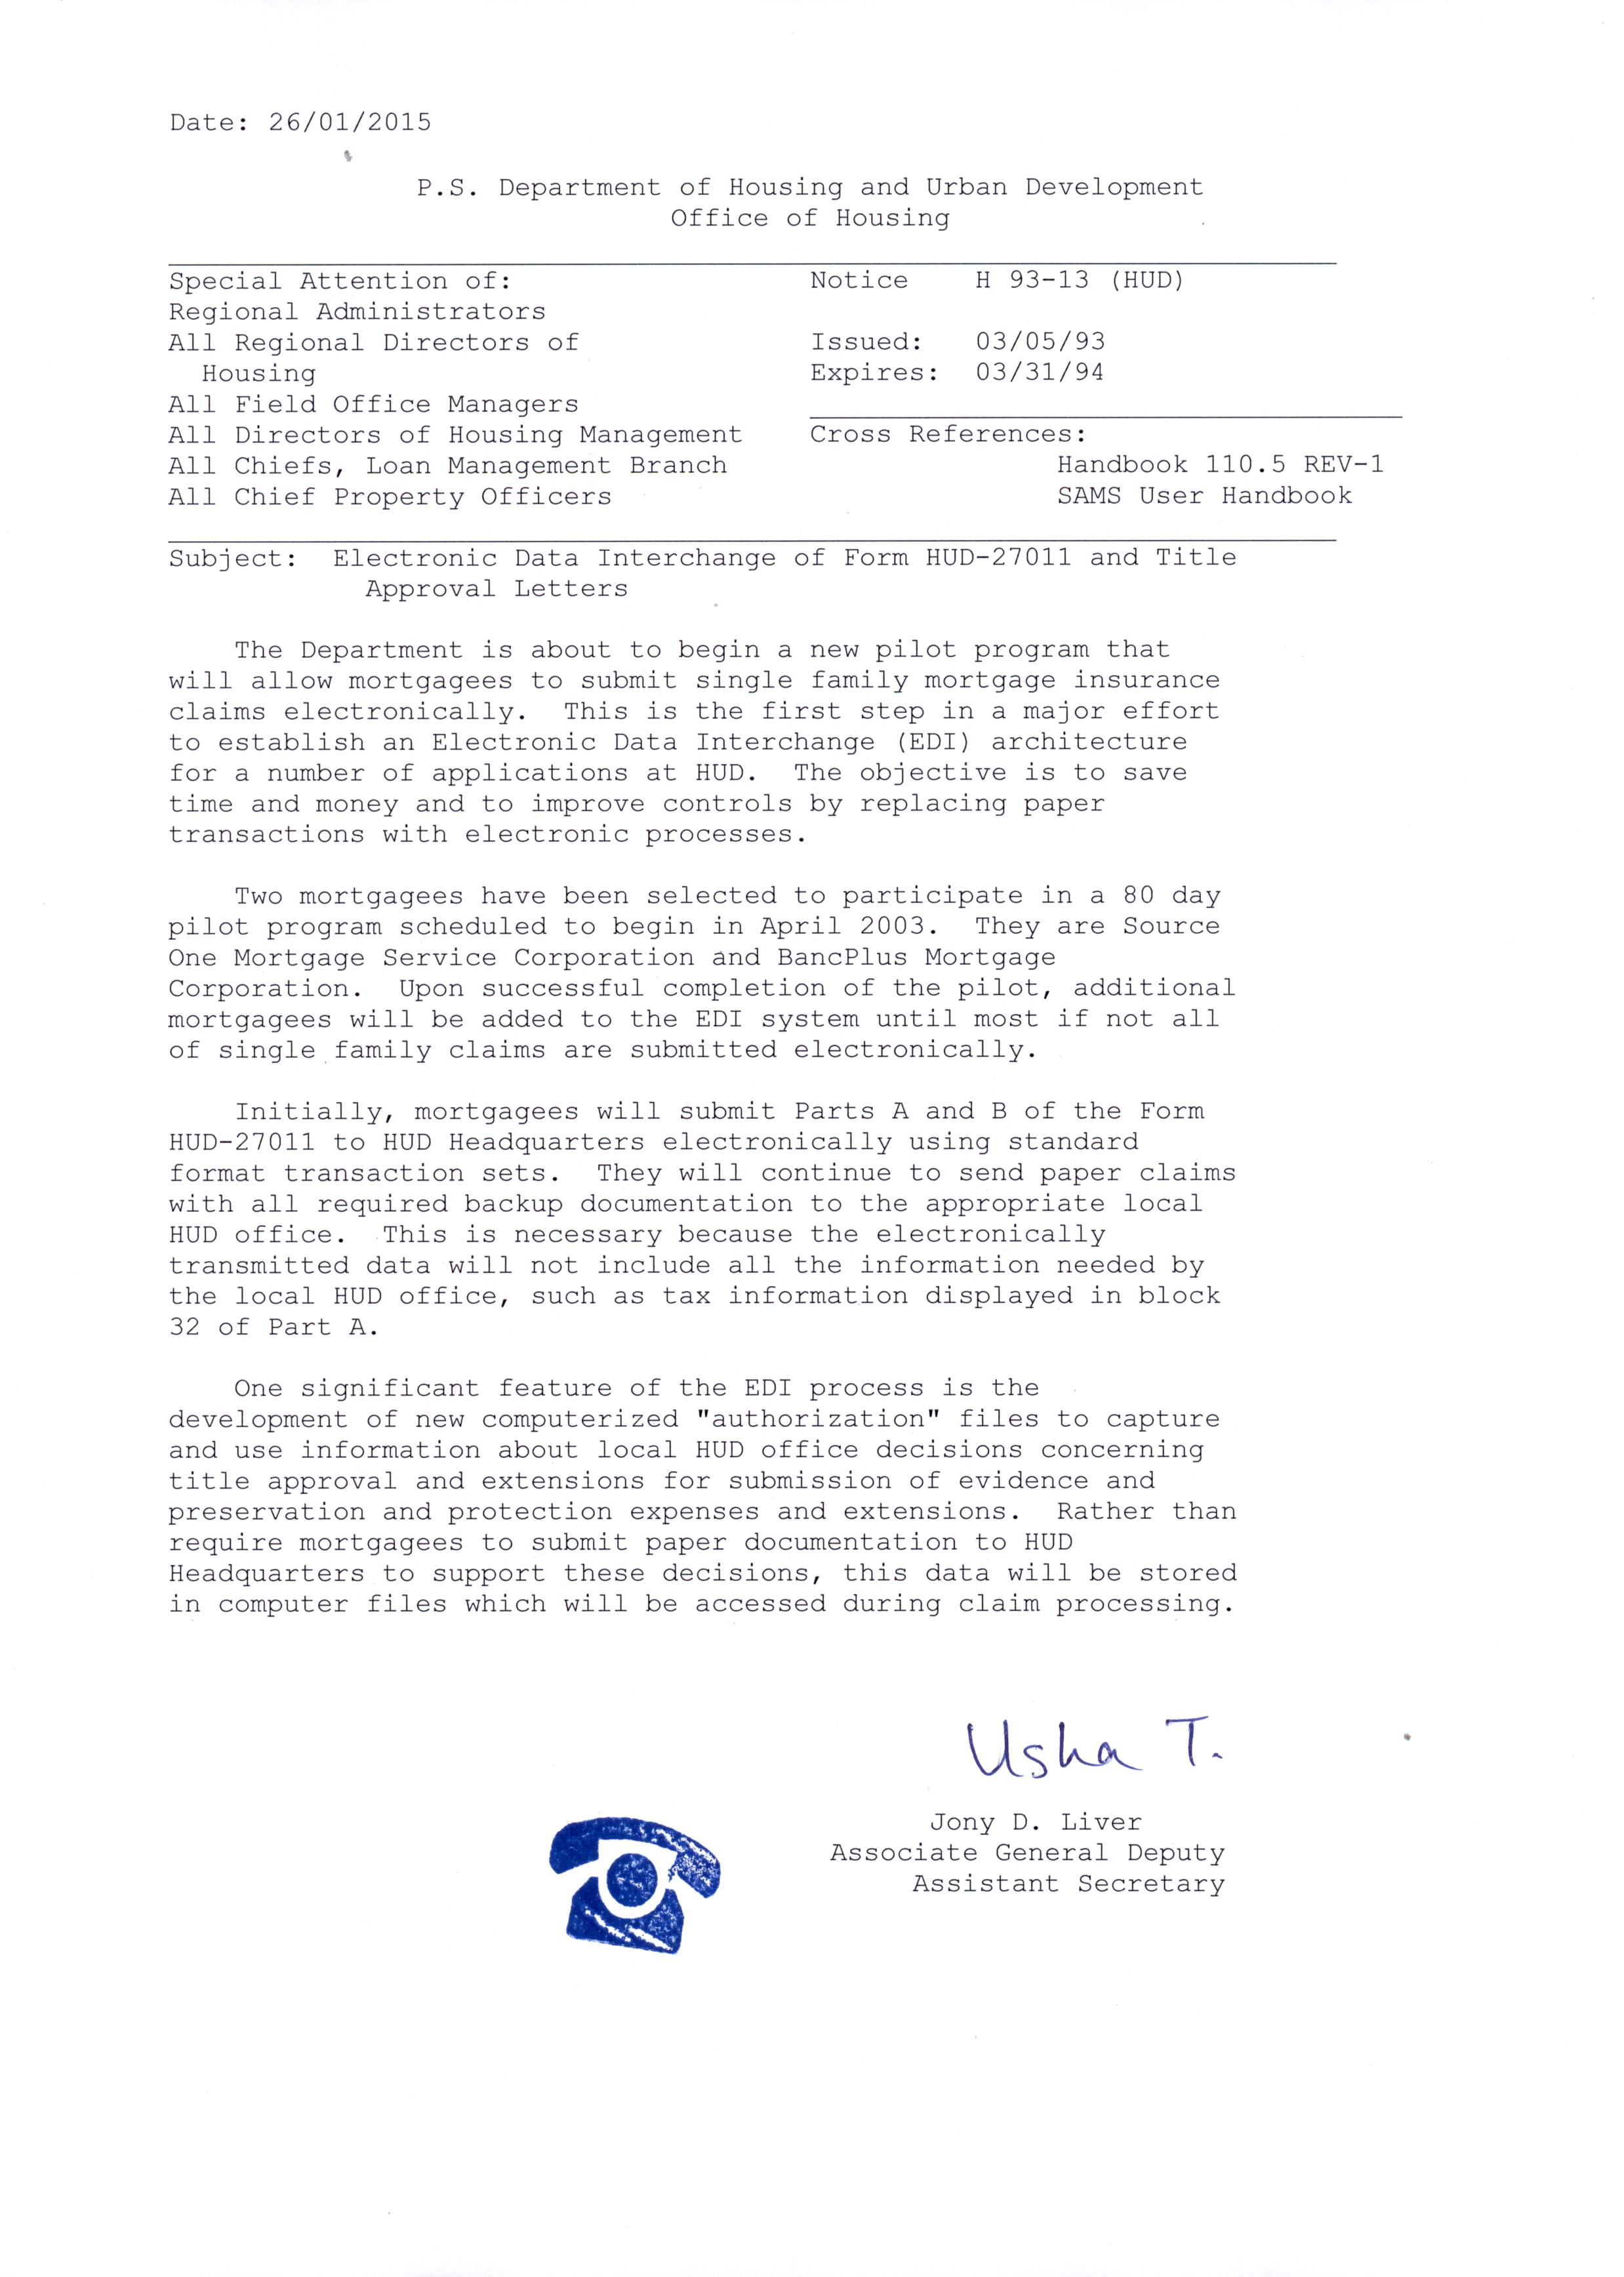Signature: (963, 1704, 1234, 1792)
